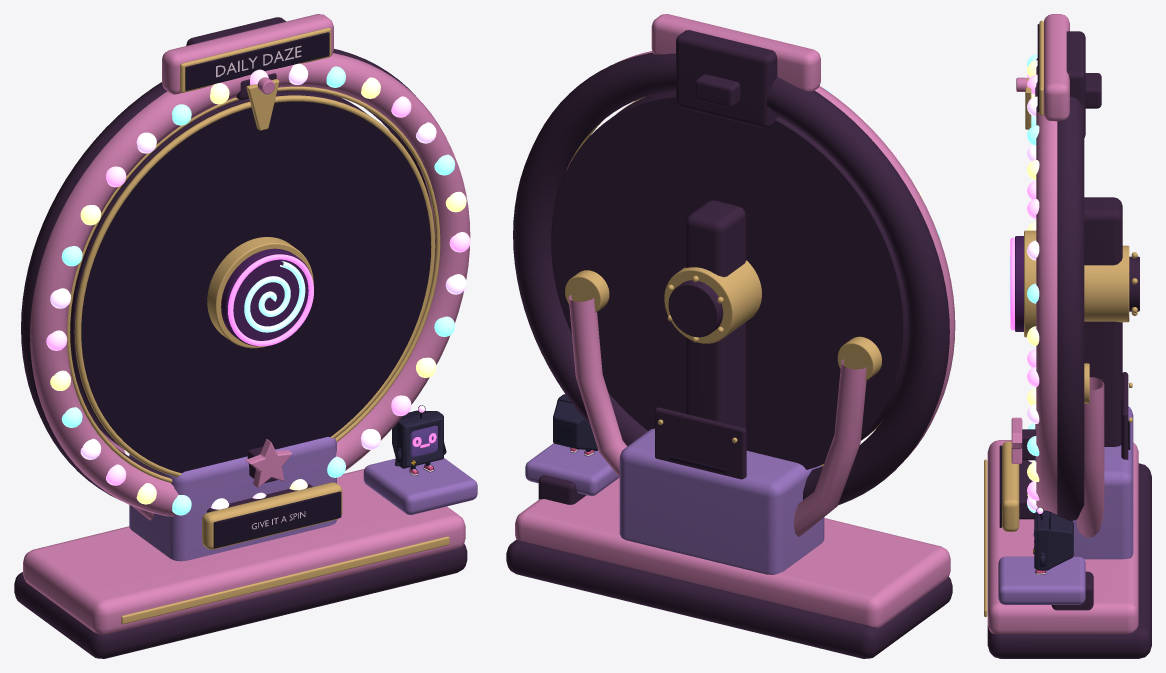
File: wheel.glb
3 views of the same model, side by side, from view 1: azimuth 30°, elevation 25°; view 2: azimuth 150°, elevation 25°; view 3: azimuth 270°, elevation 25° (orthographic). The views are drawn at different scales.
Visible parts, largest first — view 1: face_backing, base, bezel_back, emi_perch, base_inlay, hub_socket, hub, status_screen, title_screen, rotor_back, hub_spiral, hub_lip (+5 smaller); view 2: rotor_back, bezel_back, base, emi_perch, base_inlay, EMI_case; view 3: bezel_back, base, emi_perch, base_inlay, EMI_case, hub_socket, hub, star_mount, hub_lip, bezel, title_screen.
Boxes of the visible parts, bbox=[...] form: face_backing: bbox=[81, 101, 431, 473]; base: bbox=[23, 14, 470, 634]; bezel_back: bbox=[14, 17, 467, 658]; emi_perch: bbox=[129, 437, 477, 561]; base_inlay: bbox=[67, 27, 449, 624]; hub_socket: bbox=[74, 95, 435, 476]; hub: bbox=[221, 248, 310, 346]; status_screen: bbox=[213, 491, 341, 548]; title_screen: bbox=[185, 32, 329, 90]; rotor_back: bbox=[70, 90, 367, 449]; hub_spiral: bbox=[244, 261, 305, 332]; hub_lip: bbox=[228, 254, 313, 346]; rotor_back: bbox=[551, 90, 908, 469]; bezel_back: bbox=[506, 30, 952, 658]; base: bbox=[515, 14, 955, 627]; emi_perch: bbox=[525, 428, 824, 574]; base_inlay: bbox=[565, 121, 881, 466]; EMI_case: bbox=[553, 394, 597, 450]; bezel_back: bbox=[987, 31, 1151, 658]; base: bbox=[987, 14, 1138, 634]; emi_perch: bbox=[998, 406, 1133, 604]; base_inlay: bbox=[984, 20, 1137, 617]; EMI_case: bbox=[1036, 511, 1072, 570]; hub_socket: bbox=[1024, 230, 1036, 337]; hub: bbox=[1015, 236, 1023, 331]; star_mount: bbox=[1011, 417, 1022, 463]; hub_lip: bbox=[1010, 237, 1014, 330]; bezel: bbox=[1033, 510, 1073, 574]; title_screen: bbox=[1037, 24, 1039, 112].
Size of the model in its own units: 1.81 by 2.2 by 0.6341.
23 materials, 1 textured.
